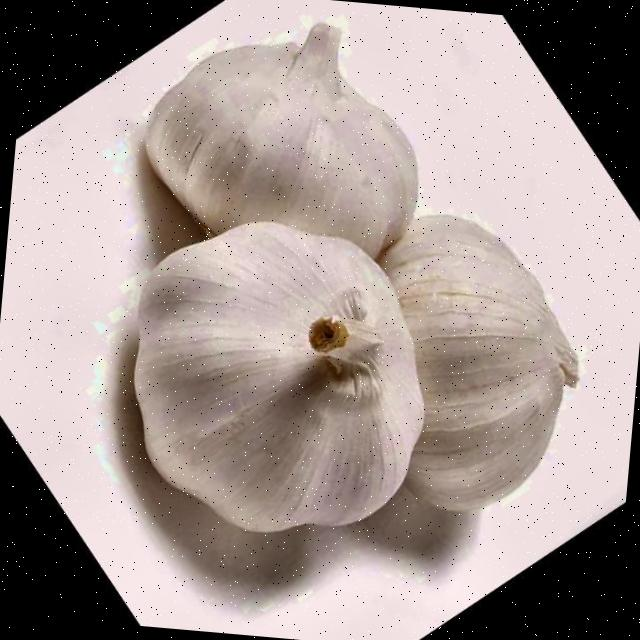garlic: (133, 221, 423, 531), (145, 23, 416, 257), (378, 215, 577, 509)
